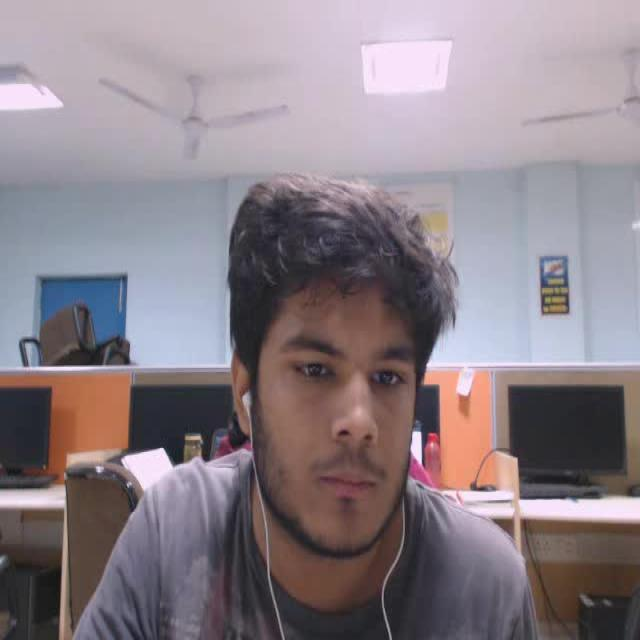Engaged: (202, 150, 470, 586)
